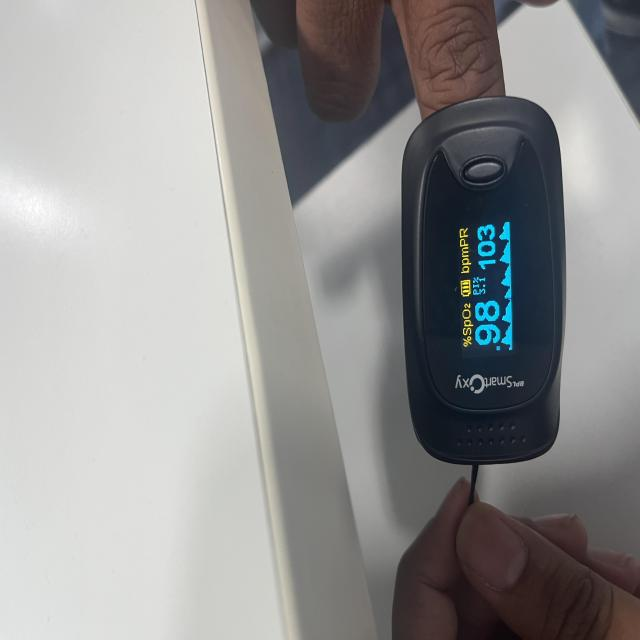spo2: (401, 97, 566, 470)
